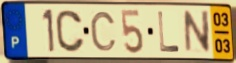1: (41, 7, 56, 55)
5: (119, 8, 145, 56)
C: (54, 8, 87, 54), (89, 10, 118, 53)
L: (156, 10, 181, 54)
N: (182, 9, 212, 56)
